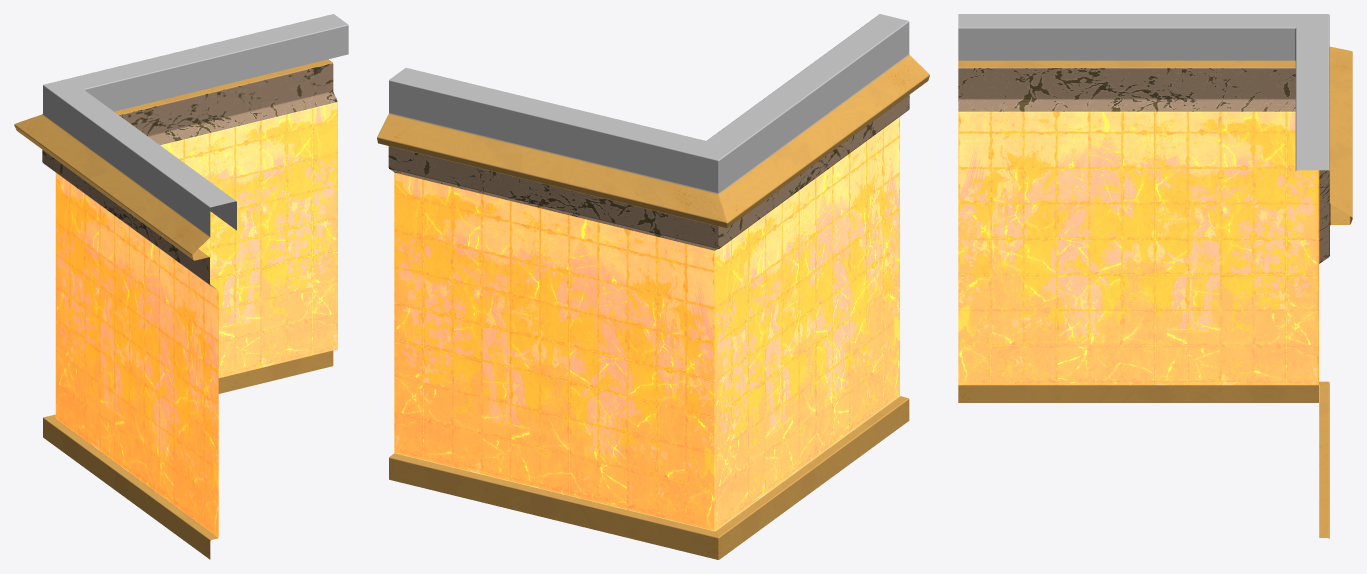
Rendered from SM_Floor_Beam_01_Corner_01.fbx.
3 views of the same model, side by side, from view 1: azimuth 30°, elevation 25°; view 2: azimuth 150°, elevation 25°; view 3: azimuth 270°, elevation 25° (orthographic). The views are drawn at different scales.
Parts seen in each view (by area): view 1: SM_Floor_Beam_01_Corner_01_LOD0; view 2: SM_Floor_Beam_01_Corner_01_LOD0; view 3: SM_Floor_Beam_01_Corner_01_LOD0.
Part boxes in pixels (<box>): SM_Floor_Beam_01_Corner_01_LOD0: <box>14,14,348,559</box>; SM_Floor_Beam_01_Corner_01_LOD0: <box>377,14,929,559</box>; SM_Floor_Beam_01_Corner_01_LOD0: <box>958,14,1352,538</box>.
Bounding box in the file's own units: 351 × 351 × 382.
